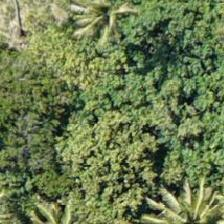coconut_tree: (77, 0, 167, 68), (0, 0, 71, 81)
